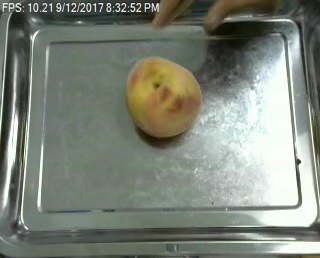Peach: (124, 56, 202, 138)
